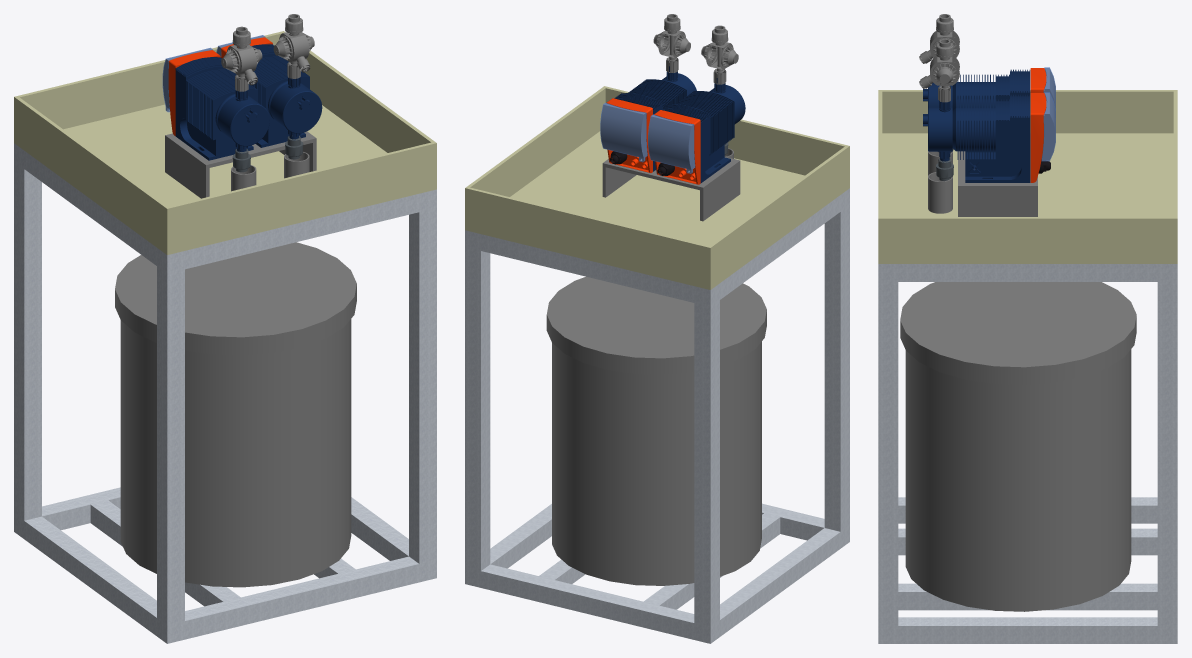
Rendered from stage2_2.glb.
The picture shows the model from 3 angles, left to right: view 1: azimuth 30°, elevation 25°; view 2: azimuth 150°, elevation 25°; view 3: azimuth 270°, elevation 25°; orthographic projection. The views are drawn at different scales.
Visible parts, largest first — view 1: object 1, object 19, object 2, Group#3 (×2), Group#1 (×3), object 11, object 10; view 2: object 1, object 19, object 2, Group#3 (×2), Group#186 (×2), Group#1 (×4), object 11; view 3: object 1, object 2, object 19, Group#3 (×2), object 11, Group#1 (×3), object 10, Group#186.
Part boxes in pixels (left/top/right/bottom): object 1: left=115, top=242, right=356, bottom=587; object 19: left=14, top=143, right=436, bottom=643; object 2: left=14, top=31, right=436, bottom=254; Group#3 (×2): left=175, top=44, right=322, bottom=160; Group#1 (×3): left=168, top=32, right=314, bottom=135; object 11: left=165, top=131, right=316, bottom=198; object 10: left=231, top=152, right=309, bottom=191; object 1: left=546, top=276, right=766, bottom=585; object 19: left=465, top=188, right=849, bottom=643; object 2: left=465, top=86, right=849, bottom=289; Group#3 (×2): left=614, top=66, right=745, bottom=183; Group#186 (×2): left=600, top=102, right=695, bottom=173; Group#1 (×4): left=606, top=30, right=738, bottom=184; object 11: left=602, top=157, right=740, bottom=221; object 1: left=900, top=282, right=1136, bottom=611; object 2: left=878, top=90, right=1177, bottom=263; object 19: left=878, top=264, right=1177, bottom=643; Group#3 (×2): left=923, top=69, right=1030, bottom=182; object 11: left=958, top=133, right=1037, bottom=216; Group#1 (×3): left=930, top=31, right=1050, bottom=182; object 10: left=928, top=151, right=952, bottom=213; Group#186: left=1041, top=92, right=1055, bottom=161.
Bounding box in the file's own units: 0.61 × 1.22 × 0.6.
10 materials, 1 textured.
